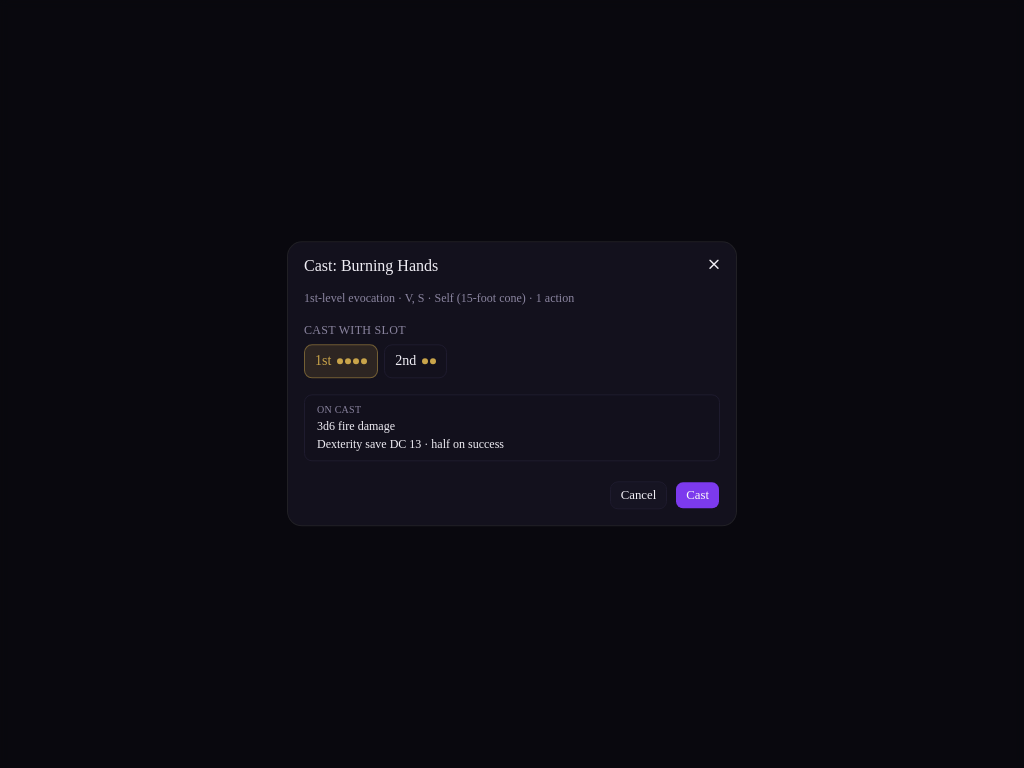
Scenario: CastDialog — configure pane › casts with the selected leveled slot
This screenshot has width=1024, height=768.
What coordinates should you click on to do the following:
click the radio button labelled "2nd"
I would click on:
 (416, 361)
Its box is [384,344,447,378].
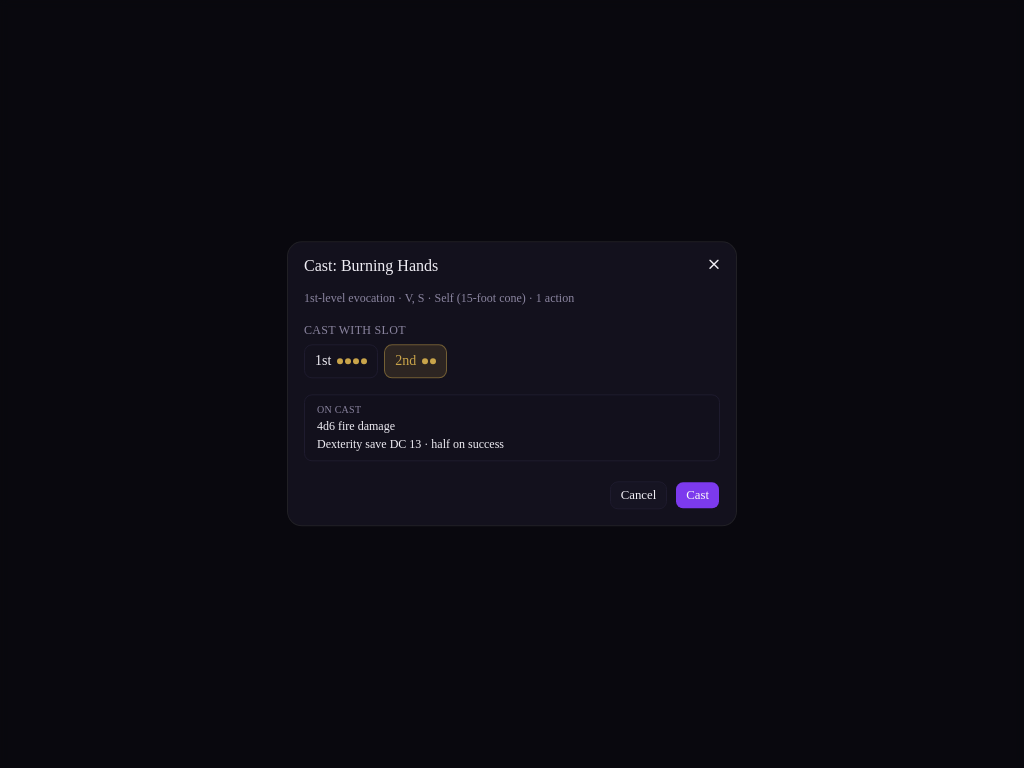
What coordinates should you click on to do the following:
click the button "Cast"
I would click on:
 (698, 496)
Its box is [675,482,720,510].
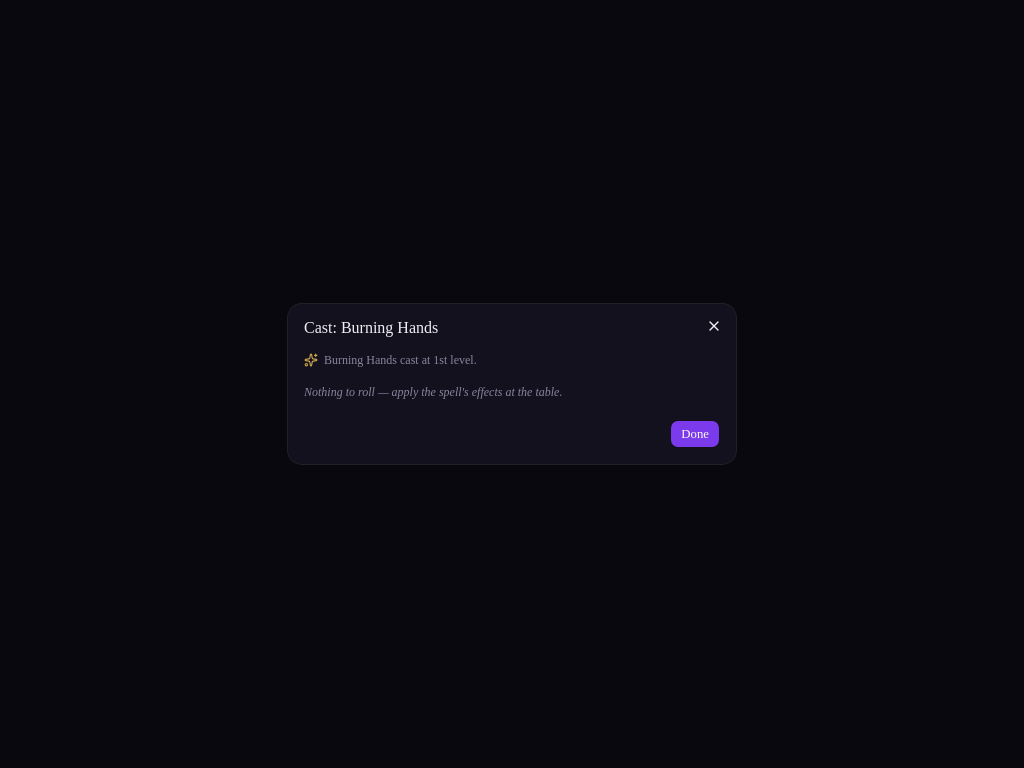
Check: the button "Done" is shown, box [670,420,720,448]
